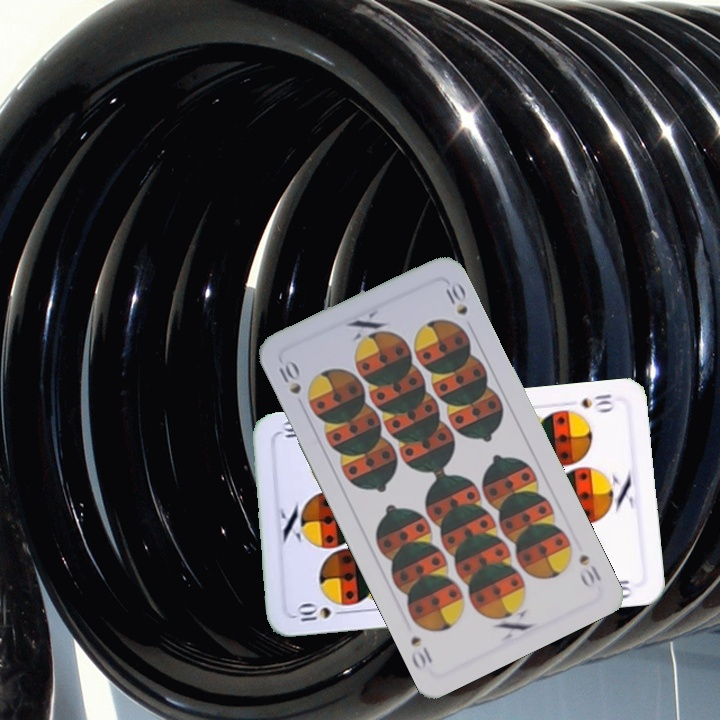S10: (291, 601, 350, 624), (274, 356, 304, 397), (575, 550, 604, 591), (578, 389, 616, 415)
